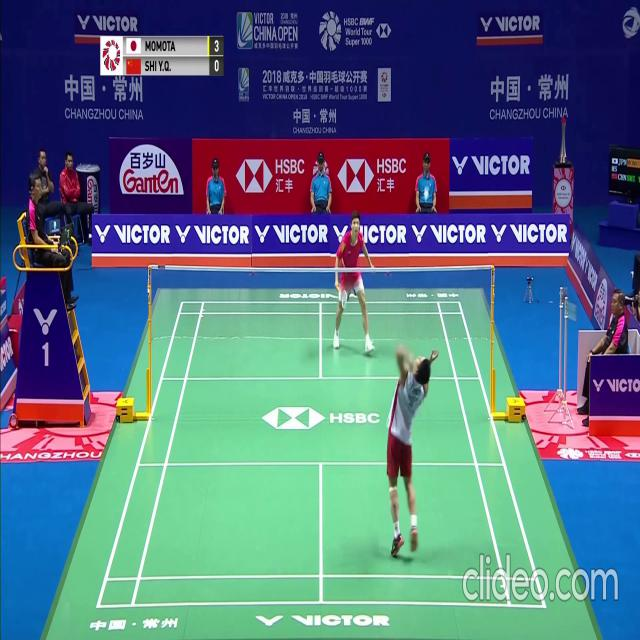Shuttlecock: (423, 195, 428, 202)
